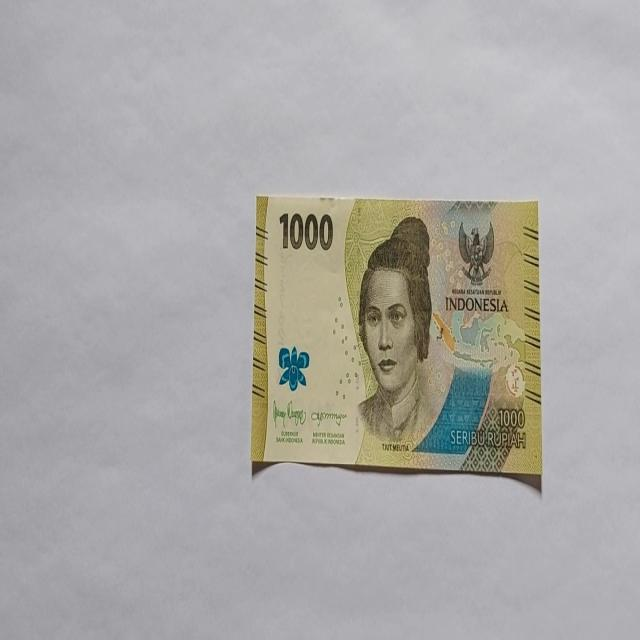seribu rupiah kertas: (250, 193, 542, 481)
